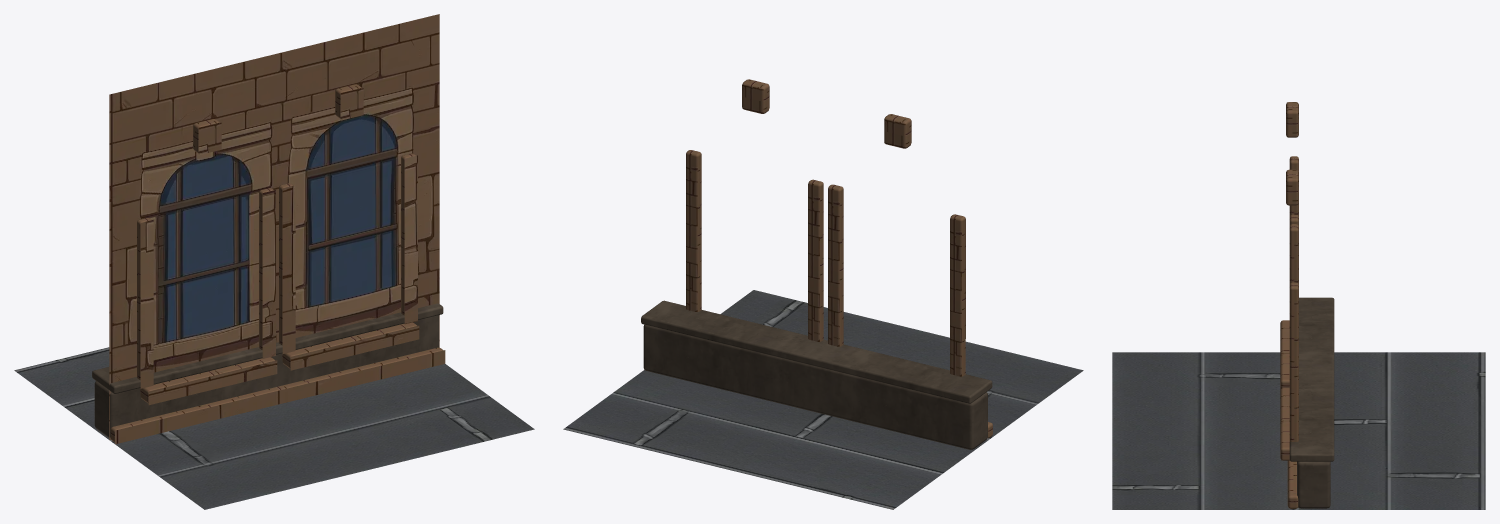
Rendered from town_brownstone.glb.
3 renders of one model, left to right at view 1: azimuth 30°, elevation 25°; view 2: azimuth 150°, elevation 25°; view 3: azimuth 270°, elevation 25°, orthographic. The views are drawn at different scales.
Visible parts, largest first — view 1: prop (×3); view 2: prop (×3); view 3: prop (×3).
Boxes of the visible parts, bbox=[...] form: prop (×3): bbox=[14, 14, 534, 509]; prop (×3): bbox=[563, 79, 1083, 509]; prop (×3): bbox=[1112, 102, 1485, 509].
Bounding box in the file's own units: 1 × 1 × 1.
Materials: 3 (3 with a texture image).
